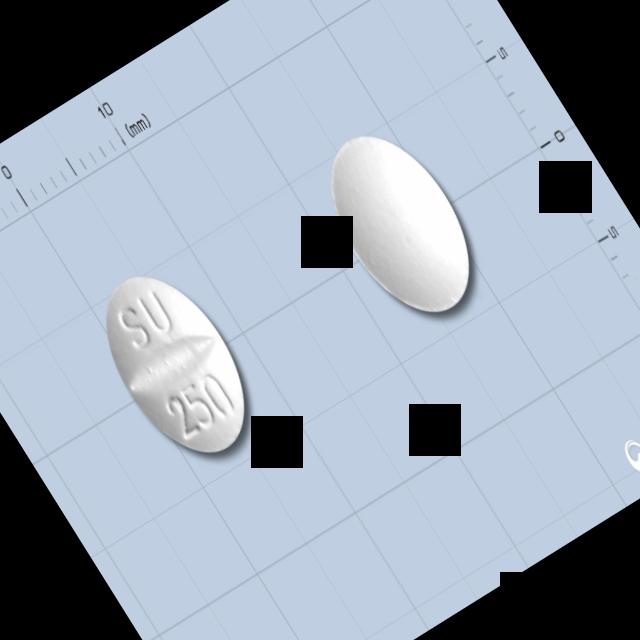Ciptec: (74, 246, 280, 482)
